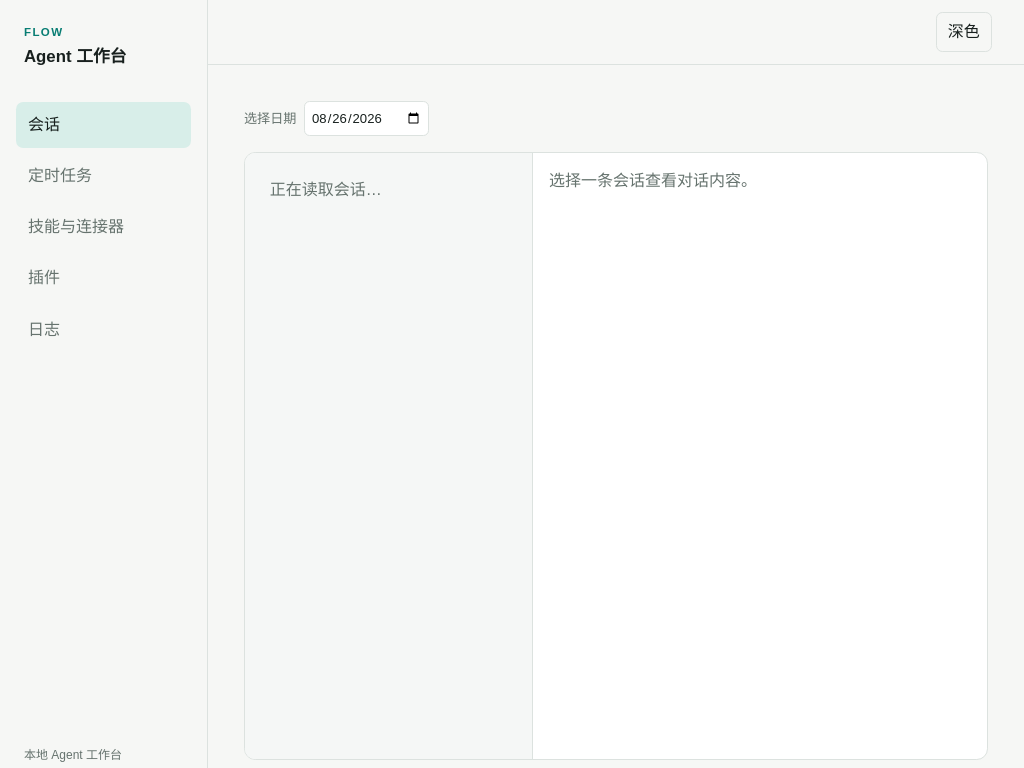
Scenario: OverviewPage › 只有一个投递目标时不显示重复的目标下拉框
Click the button "定时任务" at (104, 176), box [16,153,191,199]
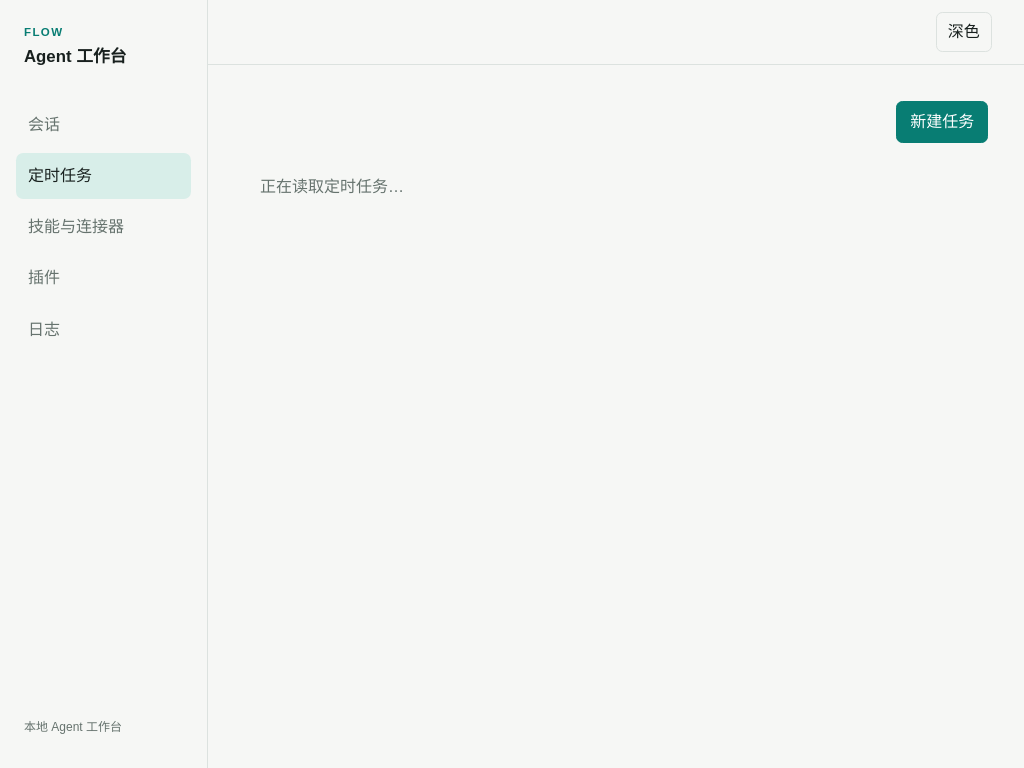
Click the button "新建任务" at (942, 122), box [896,101,988,143]
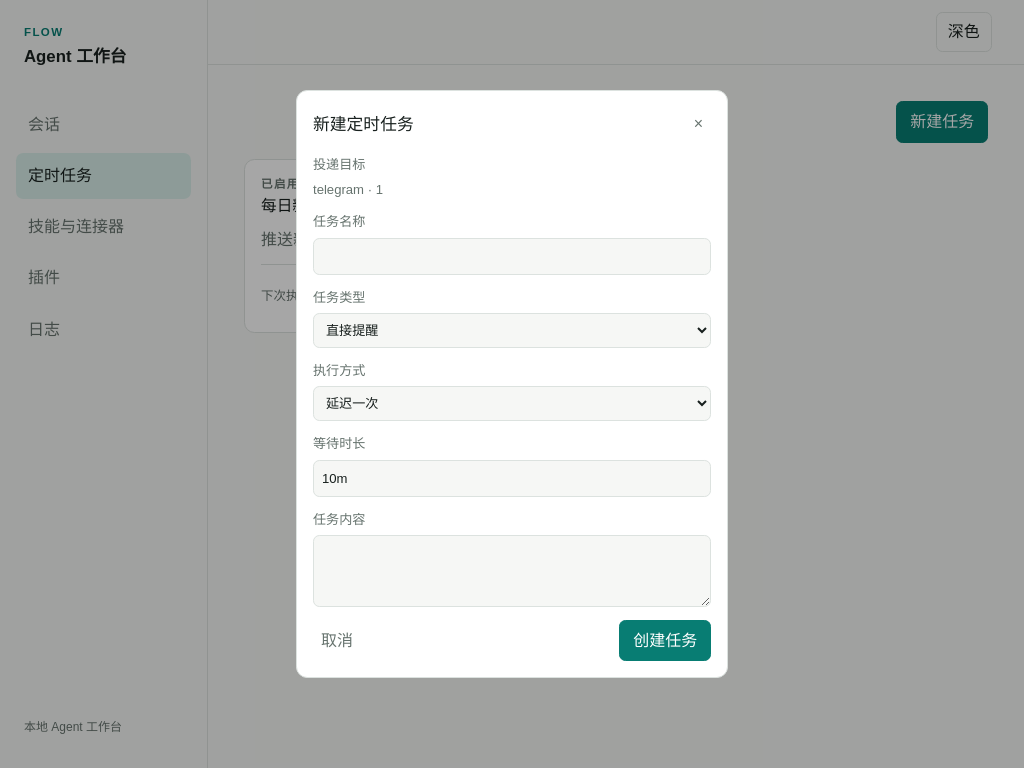
Check: the text "telegram · 1" is shown, box [313,182,383,197]
Check: the number of dropdowns is 2, box [313,313,711,348]; [313,386,711,421]
